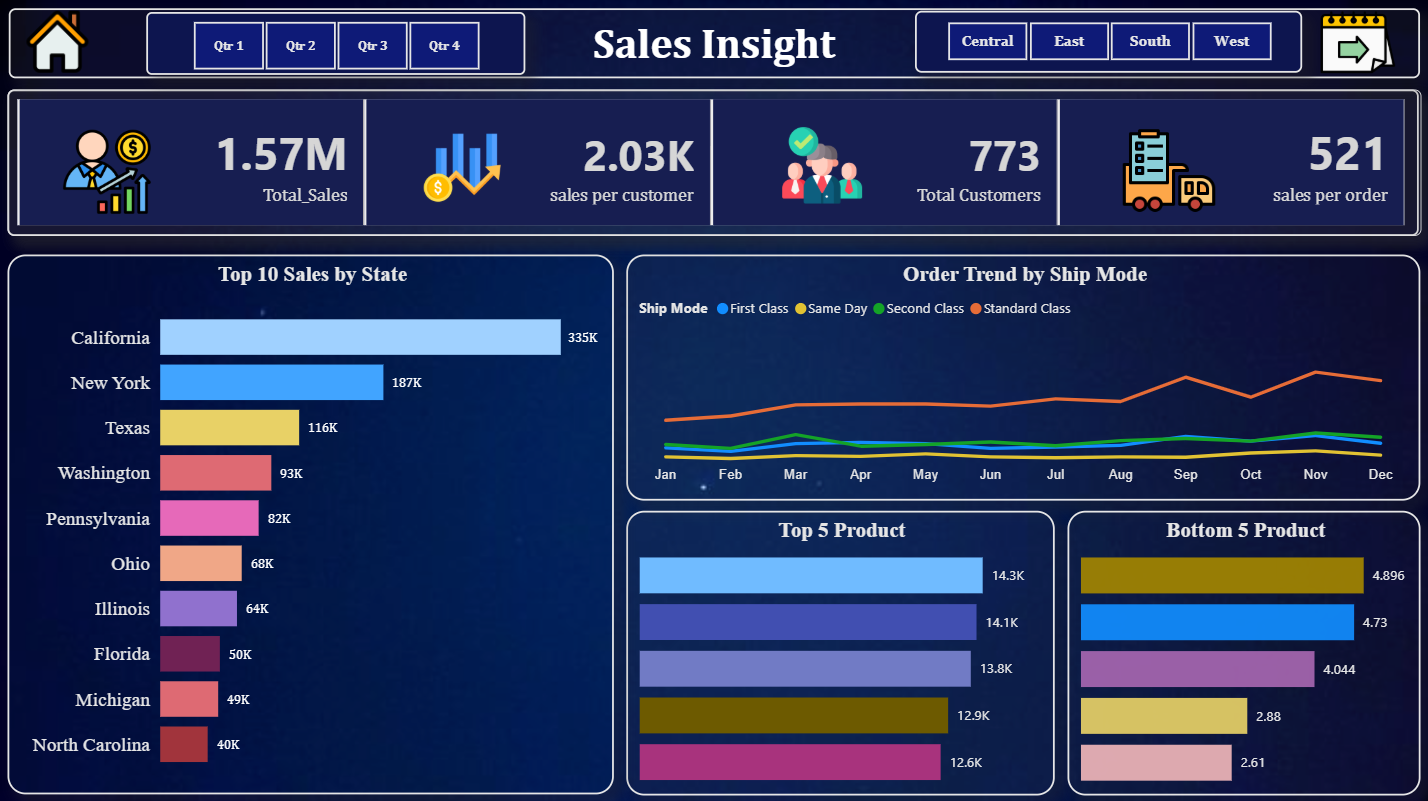

The page's visual inventory and layout, read from the dashboard file:
{"tool":"powerbi","page":{"name":"Sales Insight","canvas":[1280,720],"ordinal":1},"visuals":[{"type":"lineChart","title":"Order Trend by Ship Mode","fields":{"Category":["Sheet1.Month"],"Y":["Count(Sheet1.Order ID)"],"Series":["Sheet1.Ship Mode"]},"box":[562.2,229.2,707,219.6],"z":0},{"type":"clusteredBarChart","title":"Top 5 Product","fields":{"Category":["Sheet1.Product Name"],"Y":["Sum(Sheet1.Sales)"]},"box":[562.2,457.2,381.2,253.4],"z":1000},{"type":"barChart","title":"Top 10 Sales by State","fields":{"Category":["Sheet1.State"],"Y":["Sum(Sheet1.Sales)"]},"box":[11.1,229.3,539.9,480.9],"z":2000},{"type":"cardVisual","title":"Total Sales","fields":{"Data":["Measures (3).Total_Sales","Sheet1.sales per customer","Sheet1.Total Customers","Sheet1.sales per order"]},"box":[11.1,82.4,1256.8,130.2],"z":3000},{"type":"textbox","box":[12.1,9.7,1257.1,62.7],"z":4000},{"type":"textbox","box":[11.1,82.4,1259,130.2],"z":5000},{"type":"image","box":[24.5,116.9,150.3,77.9],"z":6000},{"type":"image","box":[955.2,106.7,181,87.5],"z":7000},{"type":"image","box":[0,12.1,111,55.5],"z":8000},{"type":"image","box":[1147.3,6.9,132,66.9],"z":9000},{"type":"clusteredBarChart","title":"Bottom 5 Product","fields":{"Category":["Sheet1.Product Name"],"Y":["Sum(Sheet1.Sales)"]},"box":[955.1,457.4,314.5,253.9],"z":10000},{"type":"slicer","fields":{"Values":["Sheet1.Region"]},"box":[819.2,12.1,345,55.5],"z":11000},{"type":"slicer","fields":{"Values":["Sheet1.Order Date.Variation.Date Hierarchy.Quarter"]},"box":[148.1,16.7,297.2,55.7],"z":12000},{"type":"image","box":[695.1,115.1,83.9,70.7],"z":13000},{"type":"image","box":[347.6,117.5,137.8,68.3],"z":14000}]}

Visuals, with their boxes in screenshot pixels (x1, y1, x2, y2), scaled from the page's 1280x720 canvas onto the 1428x801 screenshot:
"Order Trend by Ship Mode" lineChart: Rect(627, 255, 1416, 499)
"Top 5 Product" clusteredBarChart: Rect(627, 509, 1052, 791)
"Top 10 Sales by State" barChart: Rect(12, 255, 615, 790)
"Total Sales" cardVisual: Rect(12, 92, 1415, 237)
textbox: Rect(13, 11, 1416, 81)
textbox: Rect(12, 92, 1417, 237)
image: Rect(27, 130, 195, 217)
image: Rect(1066, 119, 1268, 216)
image: Rect(0, 13, 124, 75)
image: Rect(1280, 8, 1427, 82)
"Bottom 5 Product" clusteredBarChart: Rect(1066, 509, 1416, 791)
slicer - Sheet1.Region: Rect(914, 13, 1299, 75)
slicer - Sheet1.Order Date.Variation.Date Hierarchy.Quarter: Rect(165, 19, 497, 81)
image: Rect(775, 128, 869, 207)
image: Rect(388, 131, 542, 207)
